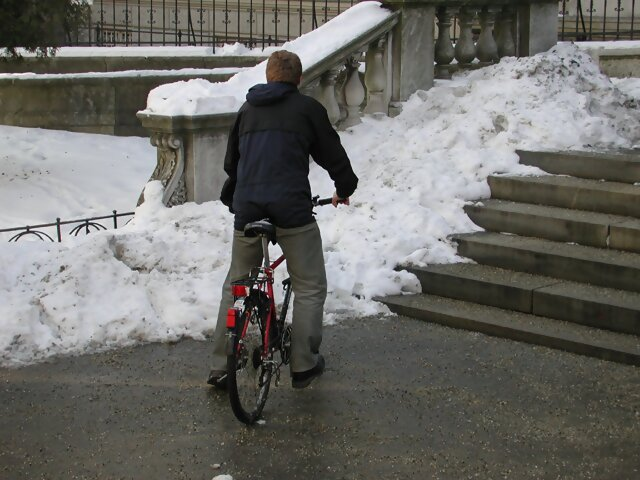person: (203, 45, 361, 404)
